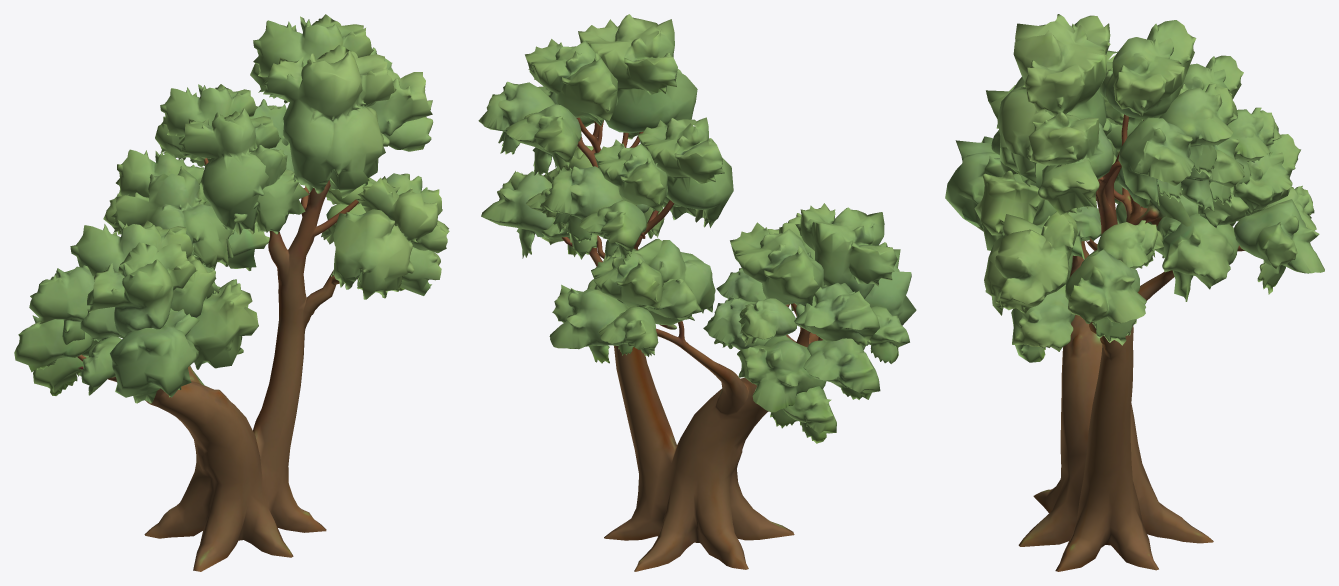
The model's file is broad-tree.glb.
The picture shows the model from 3 angles, left to right: view 1: azimuth 30°, elevation 25°; view 2: azimuth 150°, elevation 25°; view 3: azimuth 270°, elevation 25°; orthographic projection. The views are drawn at different scales.
Parts seen in each view (by area): view 1: ec67d26e_1079_498e_96f4_870e17ed4285; view 2: ec67d26e_1079_498e_96f4_870e17ed4285; view 3: ec67d26e_1079_498e_96f4_870e17ed4285.
Part boxes in pixels (x1,y1,x2,y2): ec67d26e_1079_498e_96f4_870e17ed4285: [14, 14, 449, 571]; ec67d26e_1079_498e_96f4_870e17ed4285: [478, 14, 916, 571]; ec67d26e_1079_498e_96f4_870e17ed4285: [945, 14, 1324, 571].
Bounding box in the file's own units: 0.8745 × 0.9995 × 0.6196.
1 material, 1 textured.
